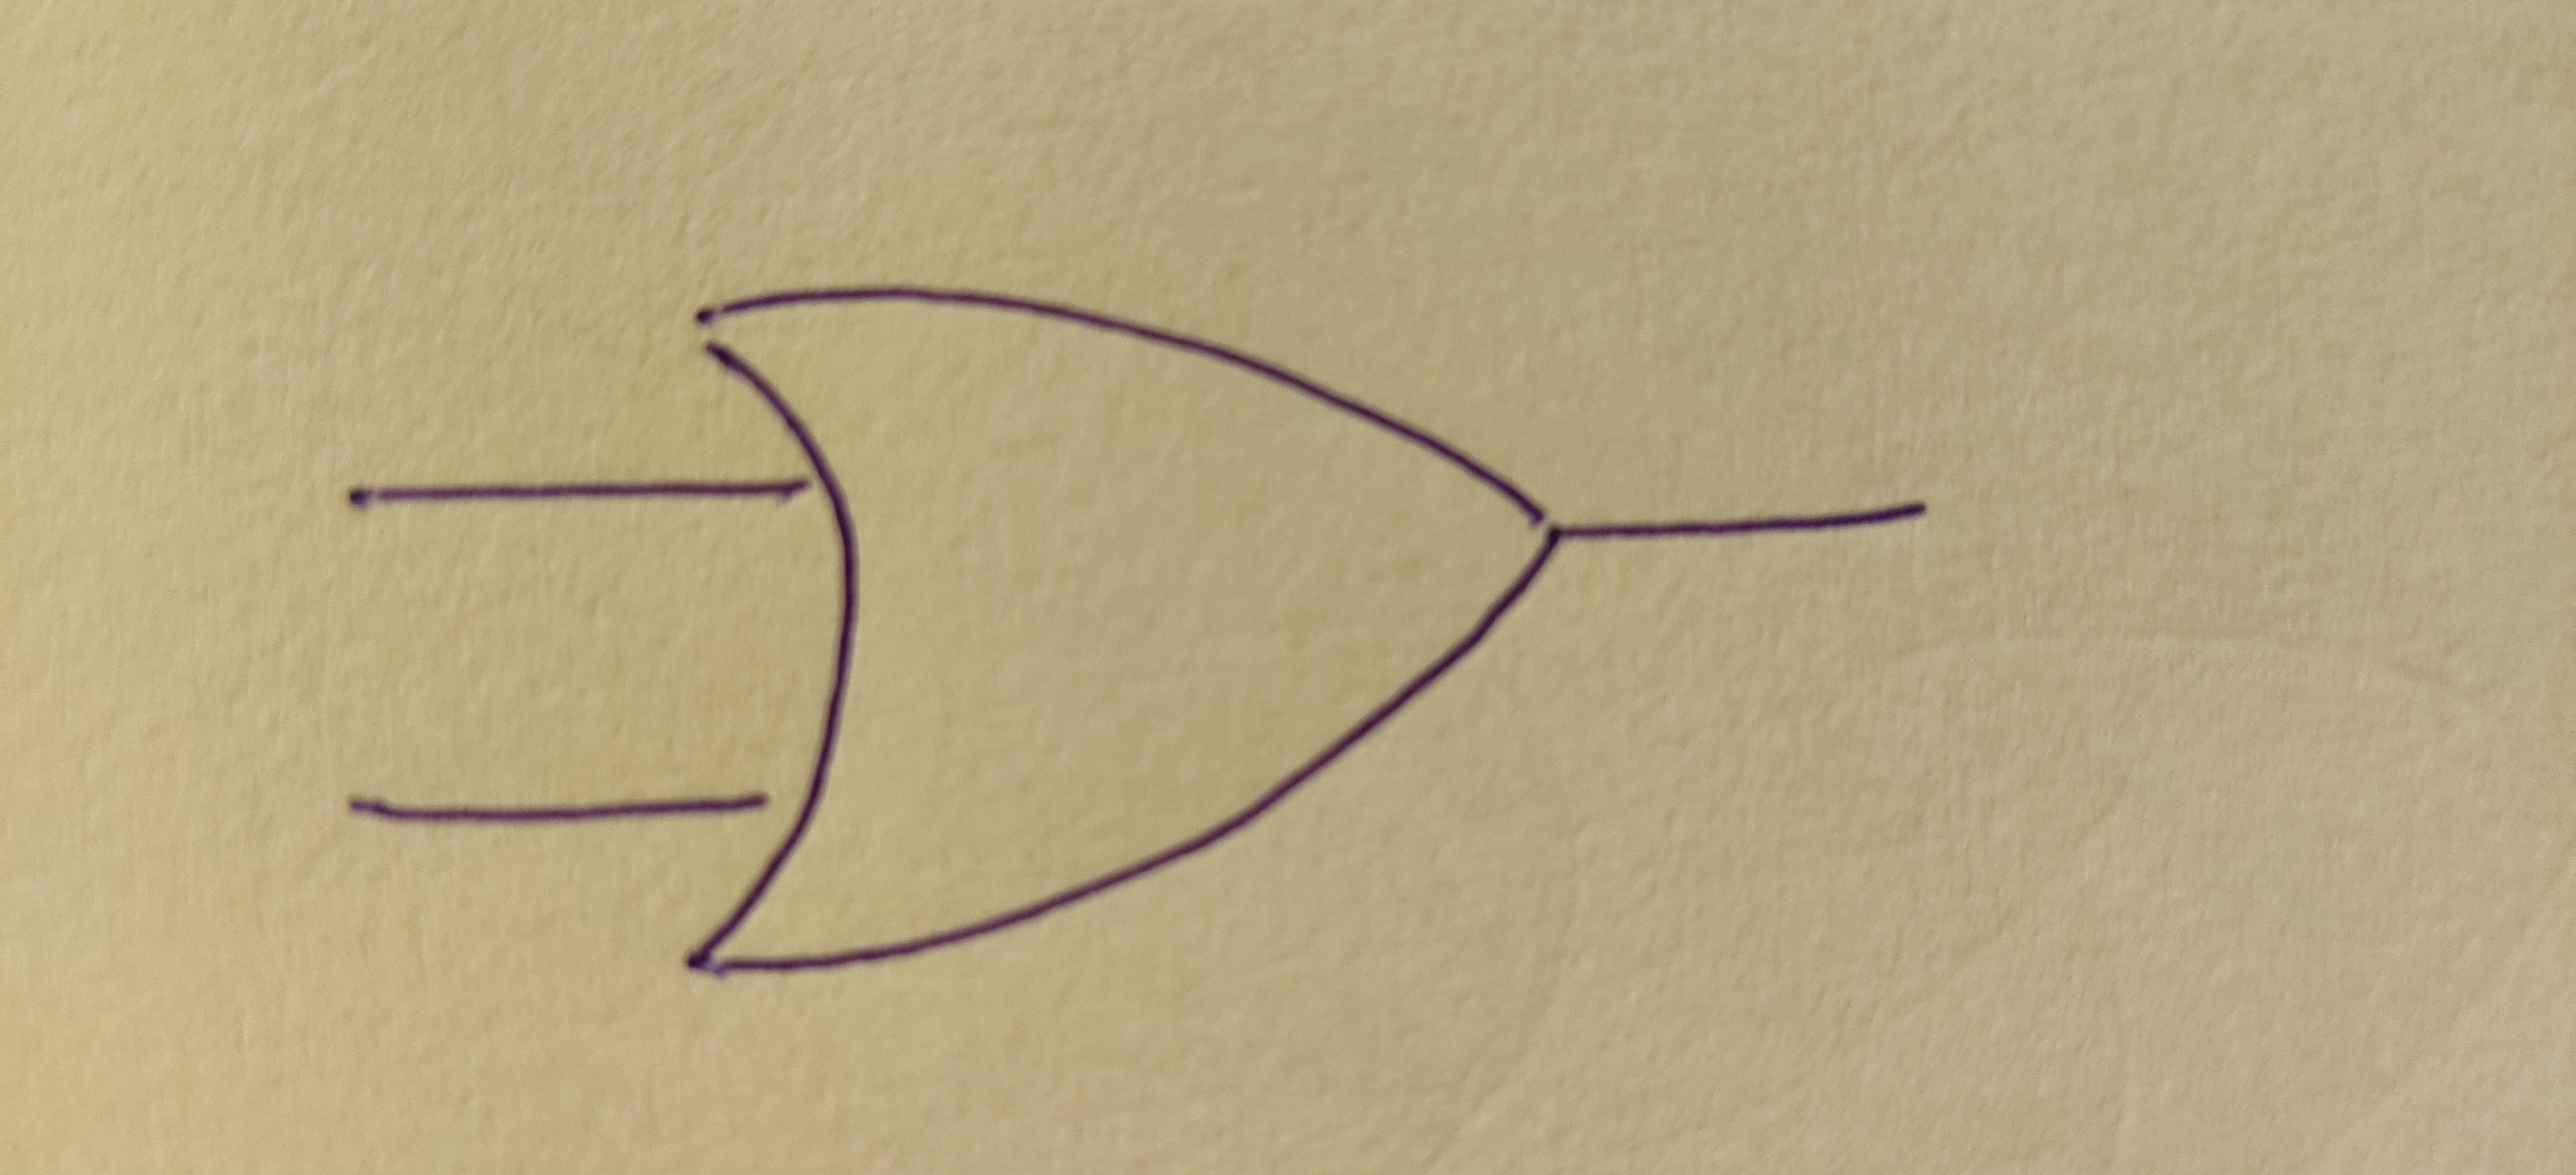or: (687, 293, 1556, 973)
